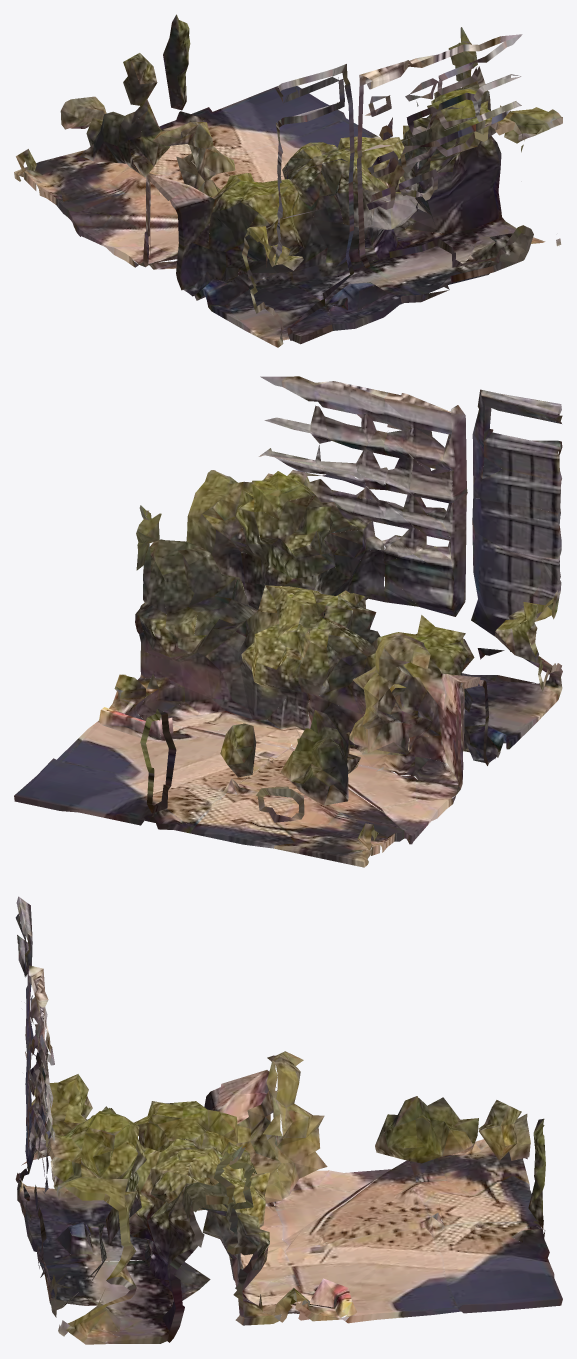
3 views of the same model, one above another, from view 1: azimuth 30°, elevation 25°; view 2: azimuth 150°, elevation 25°; view 3: azimuth 270°, elevation 25° (orthographic). The views are drawn at different scales.
Parts seen in each view (by area): view 1: Mesh_0; view 2: Mesh_0; view 3: Mesh_0.
Boxes of the visible parts, left/top/right/bottom form: Mesh_0: left=14, top=14, right=562, bottom=347; Mesh_0: left=14, top=376, right=562, bottom=867; Mesh_0: left=15, top=896, right=562, bottom=1344.
Size of the model in its own units: 33.55 by 25.02 by 41.6.
2 materials, 2 textured.
